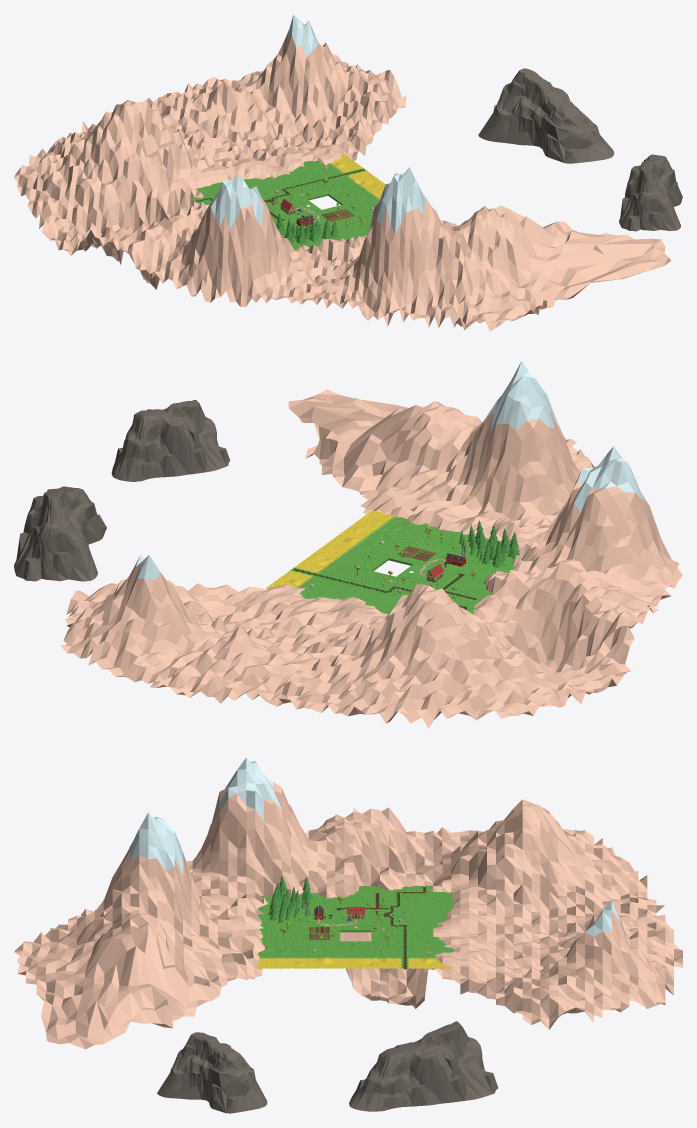
Rendered from world.gltf.
3 renders of one model, top to bottom at view 1: azimuth 30°, elevation 25°; view 2: azimuth 150°, elevation 25°; view 3: azimuth 270°, elevation 25°, orthographic. The views are drawn at different scales.
Parts seen in each view (by area): view 1: mountains, seamountains, grass, AllWinterTrees; view 2: mountains, seamountains, grass, AllWinterTrees; view 3: mountains, seamountains, grass, AllWinterTrees, streamGrass.
Part boxes in pixels (<box>): mountains: <box>14,14,670,331</box>; seamountains: <box>478,68,682,231</box>; grass: <box>189,152,385,251</box>; AllWinterTrees: <box>276,214,338,244</box>; mountains: <box>60,360,682,728</box>; seamountains: <box>14,400,230,581</box>; grass: <box>265,510,514,614</box>; AllWinterTrees: <box>459,520,519,567</box>; mountains: <box>14,757,682,1049</box>; seamountains: <box>157,1021,498,1113</box>; grass: <box>258,885,453,968</box>; AllWinterTrees: <box>268,876,312,922</box>; streamGrass: <box>380,885,428,968</box>.
Bounding box in the file's own units: 494 × 177 × 513.
Materials: 4 (1 with a texture image).
